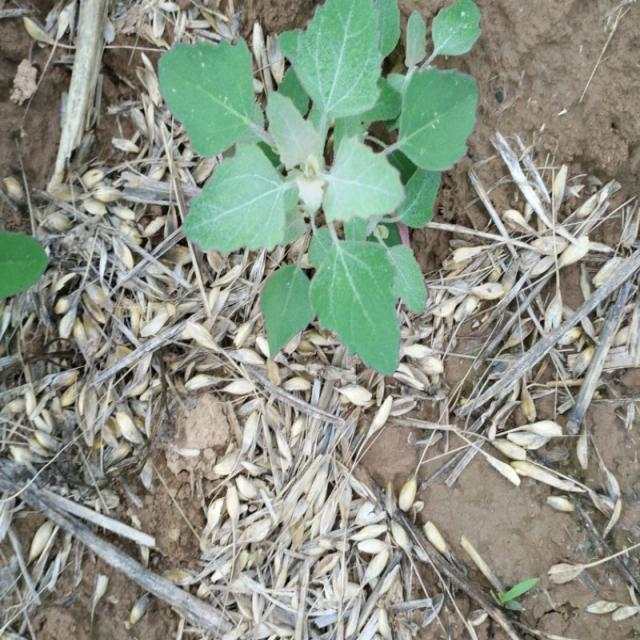goosefoots: (160, 11, 486, 372)
